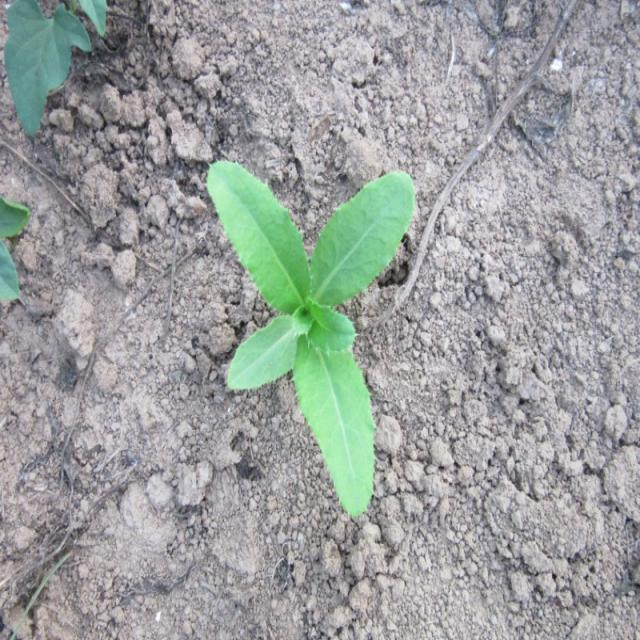cs: (204, 152, 423, 523)
